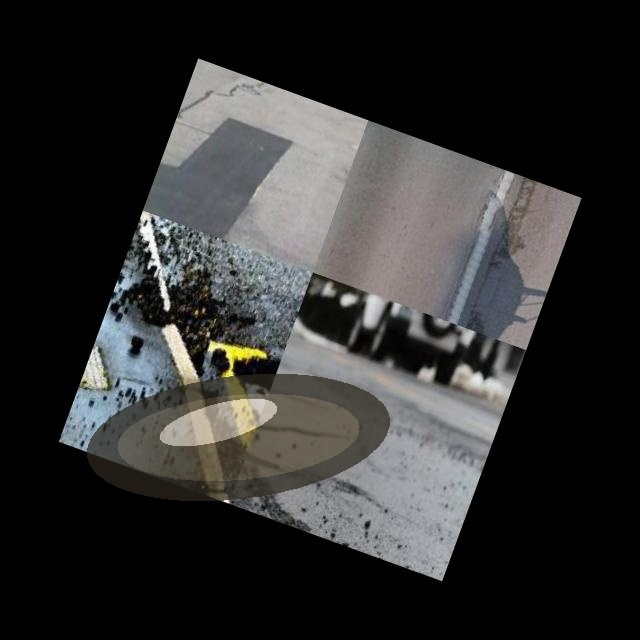waterlogging: (76, 366, 400, 508)
